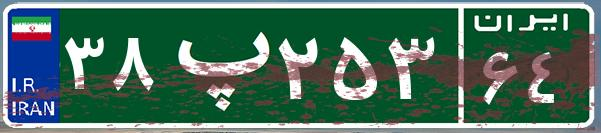2: (273, 28, 330, 110)
3: (385, 28, 445, 110), (57, 26, 110, 107)
4: (525, 38, 570, 115)
5: (330, 28, 385, 110)
6: (475, 38, 525, 113)
8: (110, 28, 158, 105)
پ: (158, 15, 273, 115)
